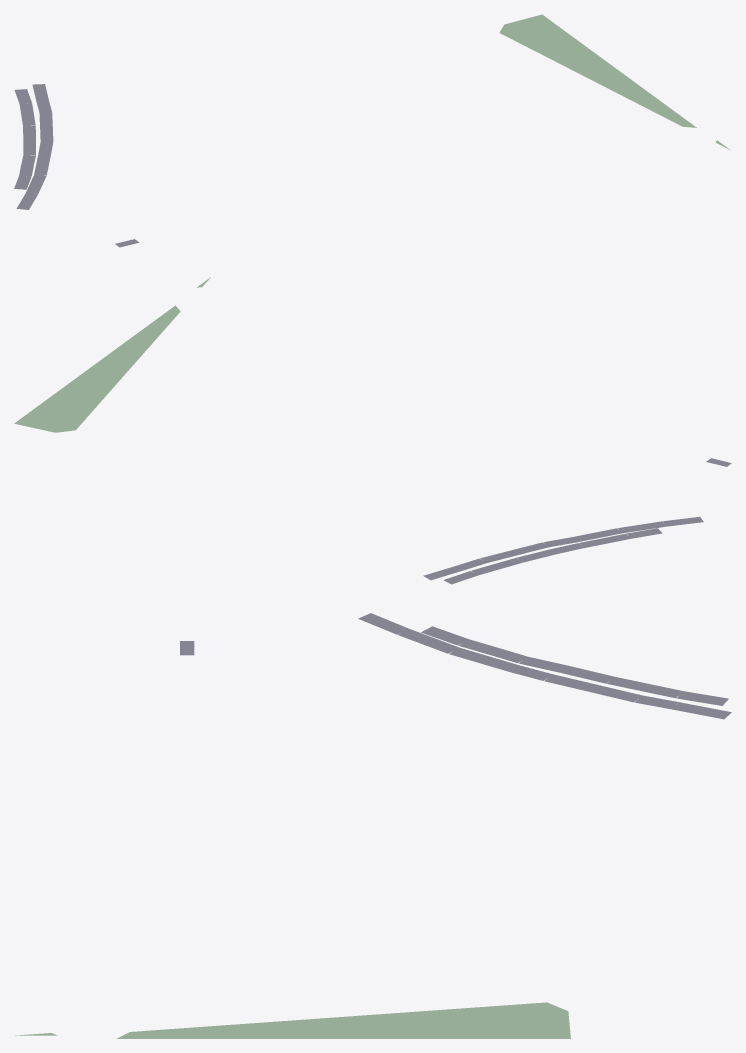
The model's file is 120_117_mid.glb.
The picture shows the model from 3 angles, top to bottom: view 1: azimuth 30°, elevation 25°; view 2: azimuth 150°, elevation 25°; view 3: azimuth 270°, elevation 25°; orthographic projection. The views are drawn at different scales.
Bounding box in the file's own units: 483 × 1.79 × 345.
